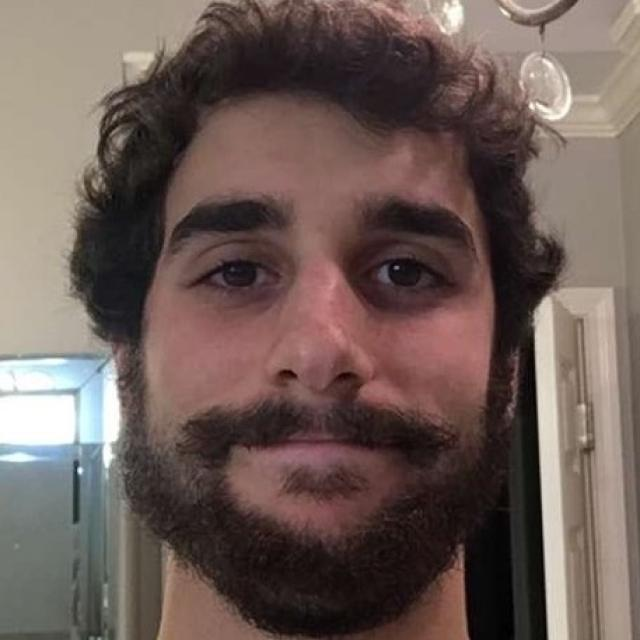Normal: (144, 96, 499, 597)
